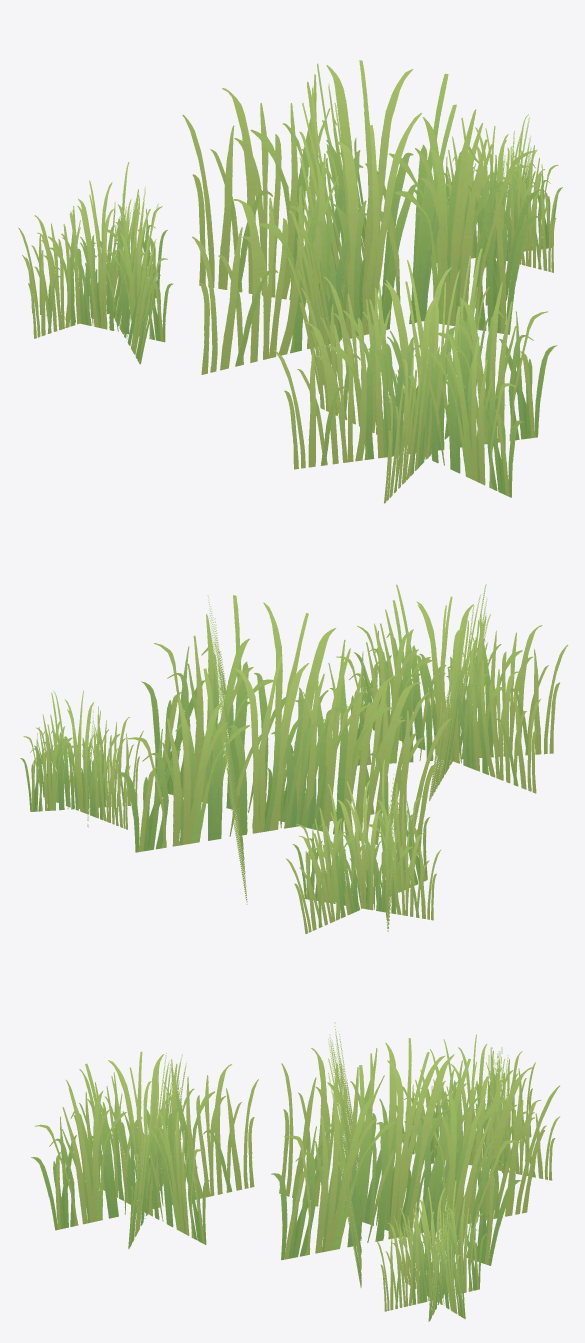
The model's file is SM_grass_base02.fbx.
3 views of the same model, one above another, from view 1: azimuth 30°, elevation 25°; view 2: azimuth 150°, elevation 25°; view 3: azimuth 270°, elevation 25° (orthographic). The views are drawn at different scales.
Parts seen in each view (by area): view 1: SM_grass_base02.mo; view 2: SM_grass_base02.mo; view 3: SM_grass_base02.mo.
Boxes of the visible parts, x1=… form: SM_grass_base02.mo: x1=18, y1=60, x2=562, y2=503; SM_grass_base02.mo: x1=20, y1=584, x2=568, y2=933; SM_grass_base02.mo: x1=31, y1=1022, x2=560, y2=1321.
Size of the model in its own units: 1.97 by 0.9848 by 2.24.
